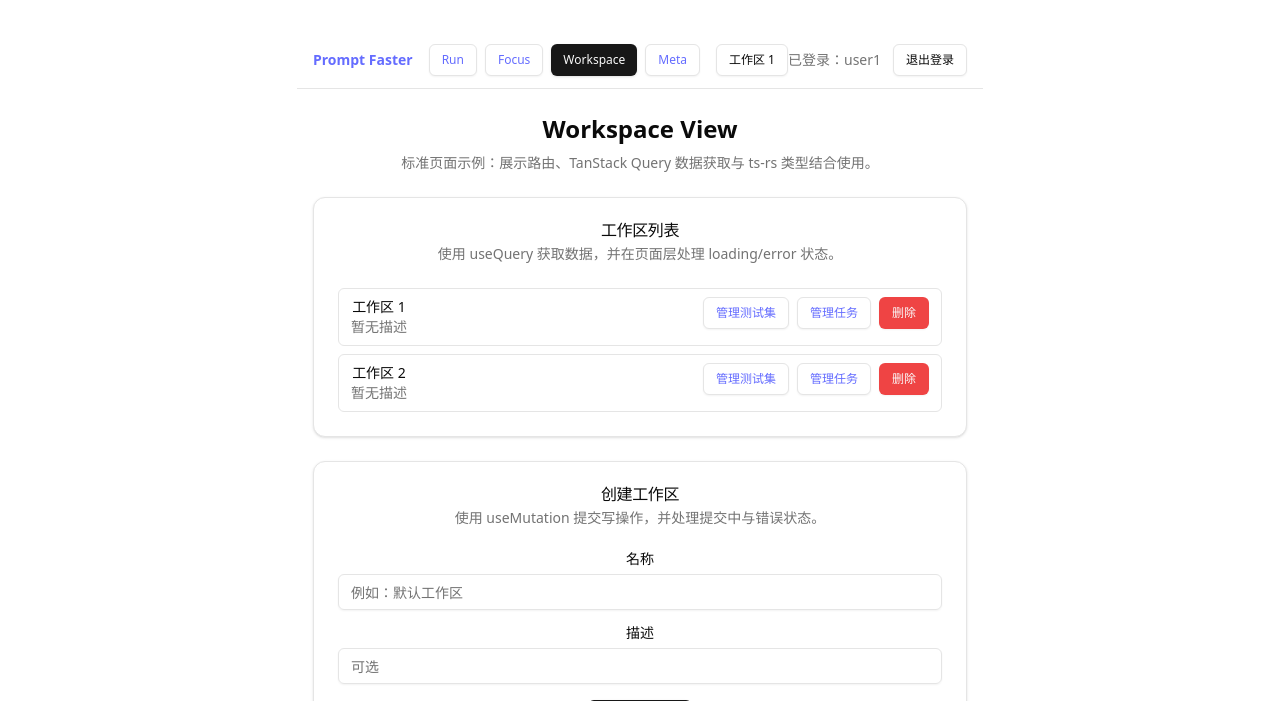
App routes › 确认删除成功 → 列表刷新且移除该工作区
Expected: the text "工作区 1" is shown, [351, 297, 407, 317]
Expected: the text "工作区 2" is shown, [351, 363, 407, 383]
Click the button with test id "workspace-delete-ws-1".
click(904, 313)  # box [879, 297, 929, 329]
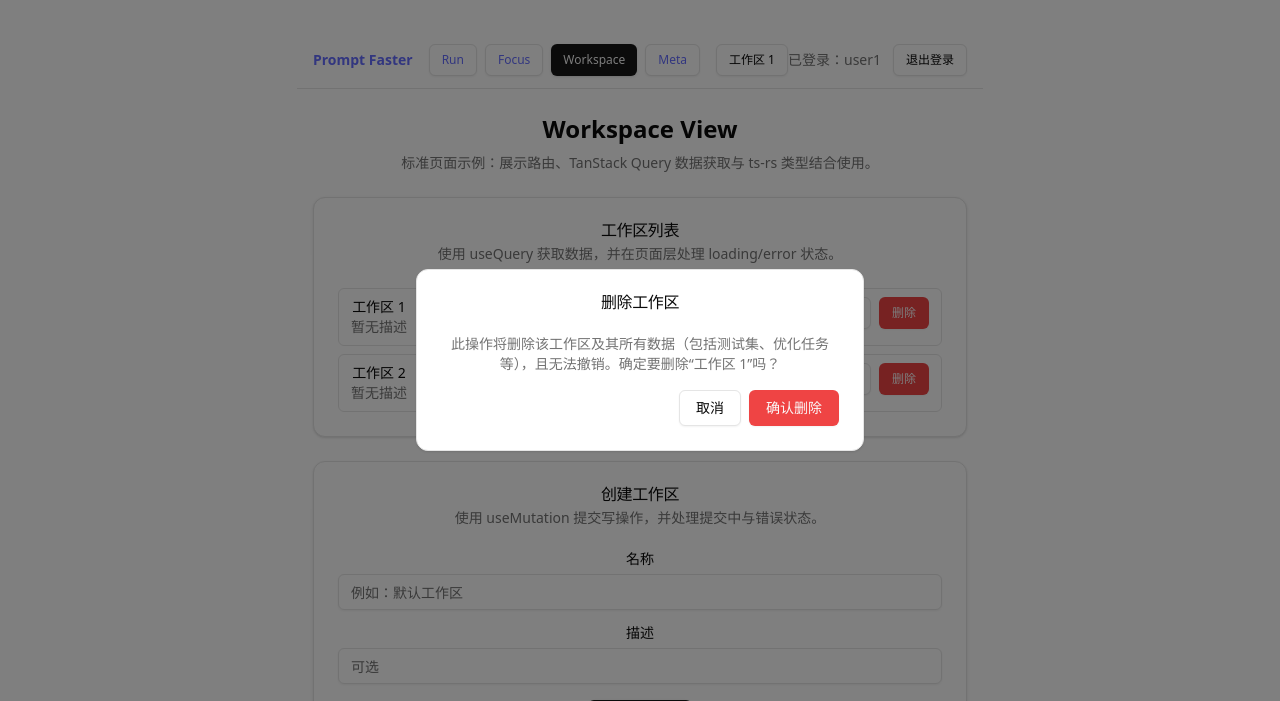
Click the button with test id "workspace-delete-confirm".
click(794, 408)  # box [749, 390, 839, 426]
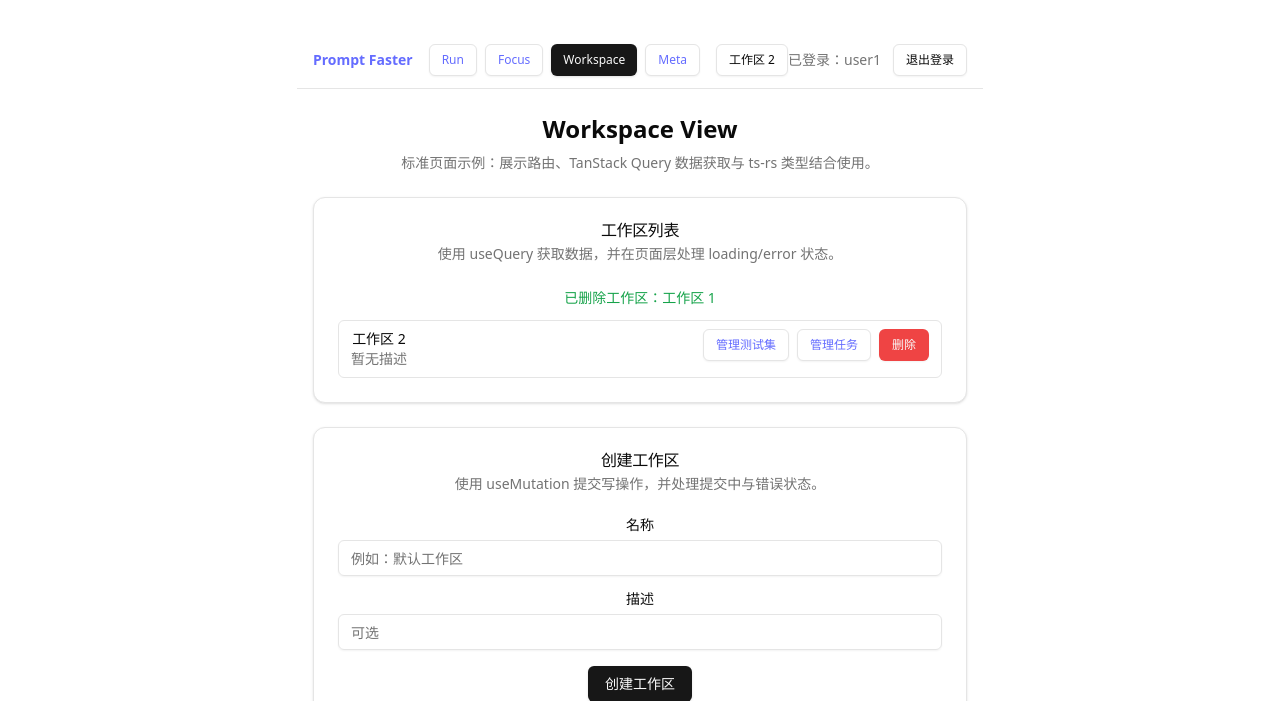
Expected: the text "工作区 2" is shown, [351, 329, 407, 349]
Now the text "已删除工作区：工作区 1" is shown, box [564, 288, 716, 307]
